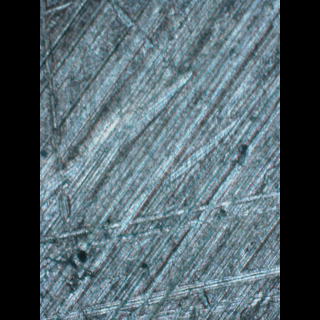d: (39, 189, 279, 260), (40, 0, 93, 302), (50, 263, 279, 320)
